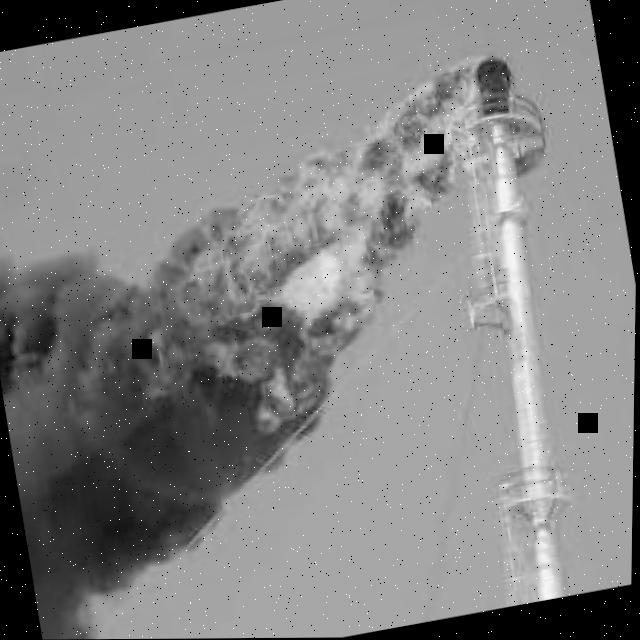fire: (141, 57, 493, 427)
smoke: (0, 221, 329, 640)
